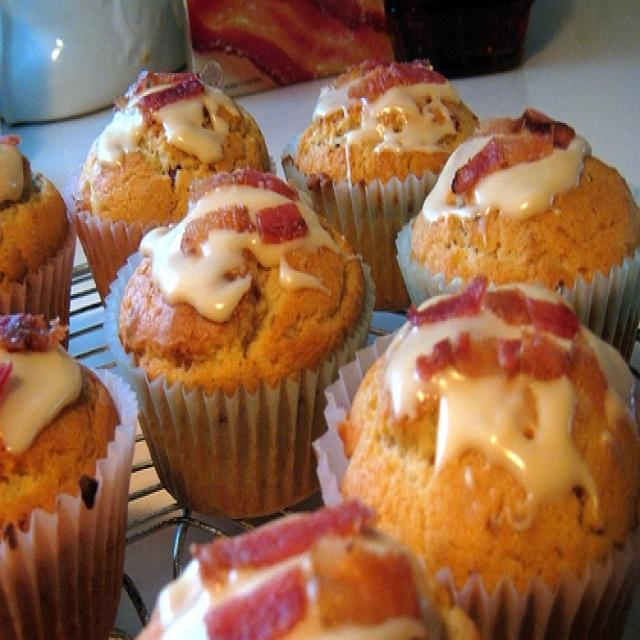炸货点心: (11, 23, 624, 630)
面包点心: (11, 23, 624, 630)
